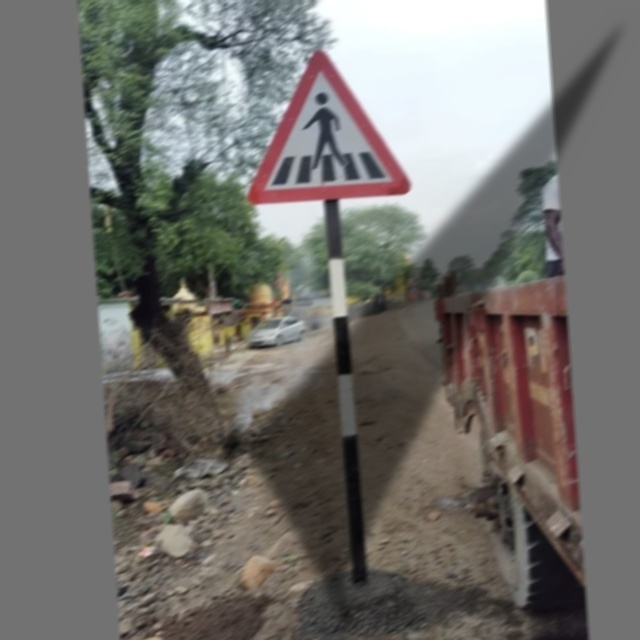Pedestrian_Crossing: (241, 32, 418, 207)
